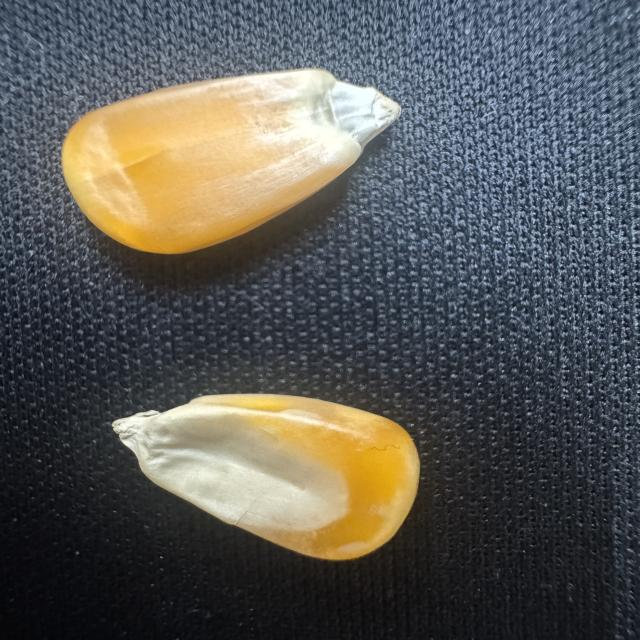Good-Seed: (51, 63, 401, 259), (92, 388, 440, 568)
